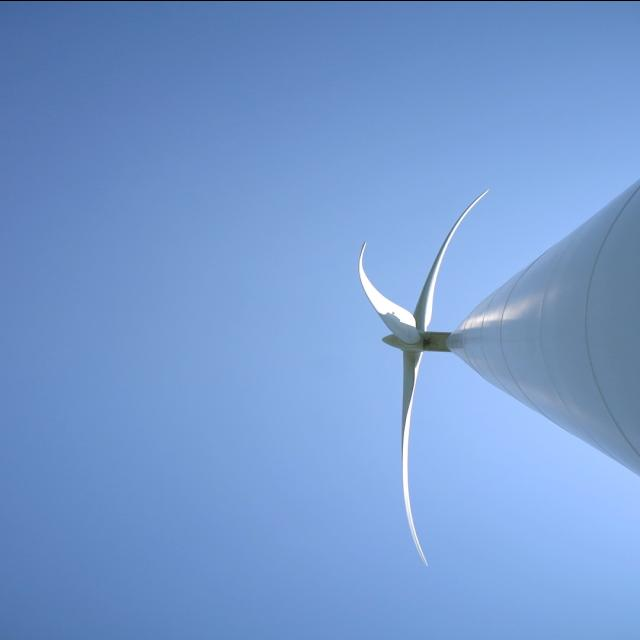blade 1: (382, 360, 438, 606)
blade 2: (350, 96, 410, 284)
blade 3: (418, 196, 509, 291)
